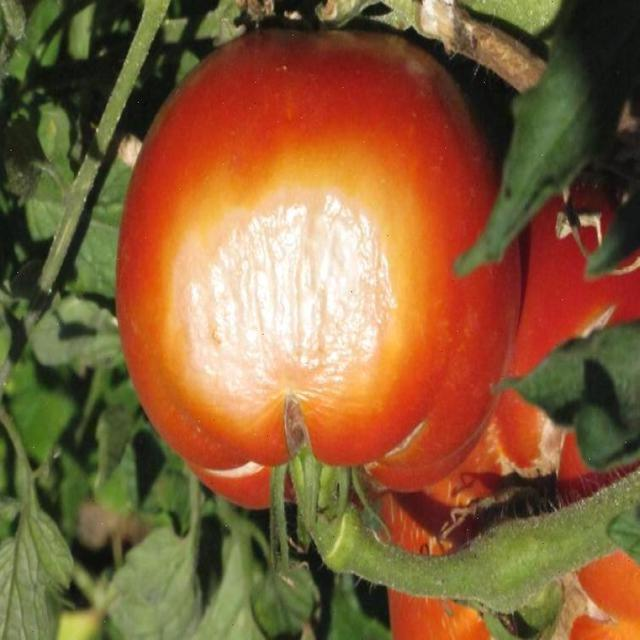Sunscald Fruit: (112, 118, 276, 286)
